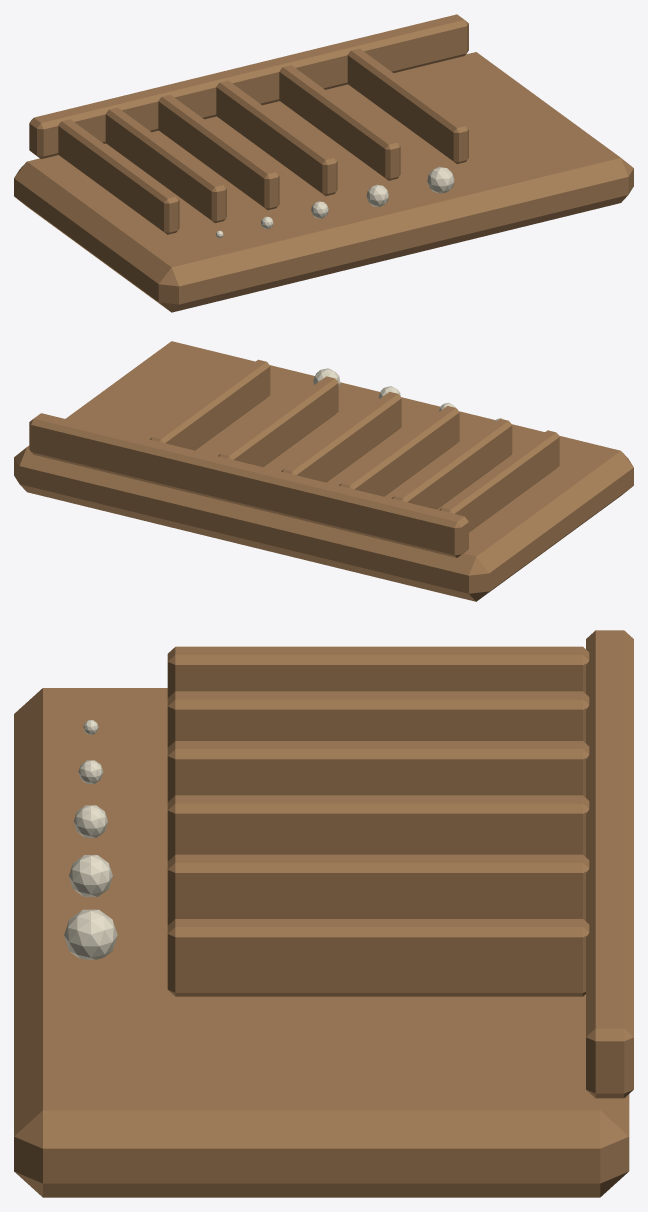
The picture shows the model from 3 angles, top to bottom: view 1: azimuth 30°, elevation 25°; view 2: azimuth 150°, elevation 25°; view 3: azimuth 270°, elevation 25°; orthographic projection. The views are drawn at different scales.
Visible parts, largest first — view 1: CE-057 Open-slot pearl grading comb batched; view 2: CE-057 Open-slot pearl grading comb batched; view 3: CE-057 Open-slot pearl grading comb batched.
Part boxes in pixels (left/top/right/bottom): CE-057 Open-slot pearl grading comb batched: left=14, top=14, right=633, bottom=312; CE-057 Open-slot pearl grading comb batched: left=14, top=341, right=633, bottom=601; CE-057 Open-slot pearl grading comb batched: left=14, top=630, right=633, bottom=1197.
Bounding box in the file's own units: 0.55 × 0.09 × 0.3225.
